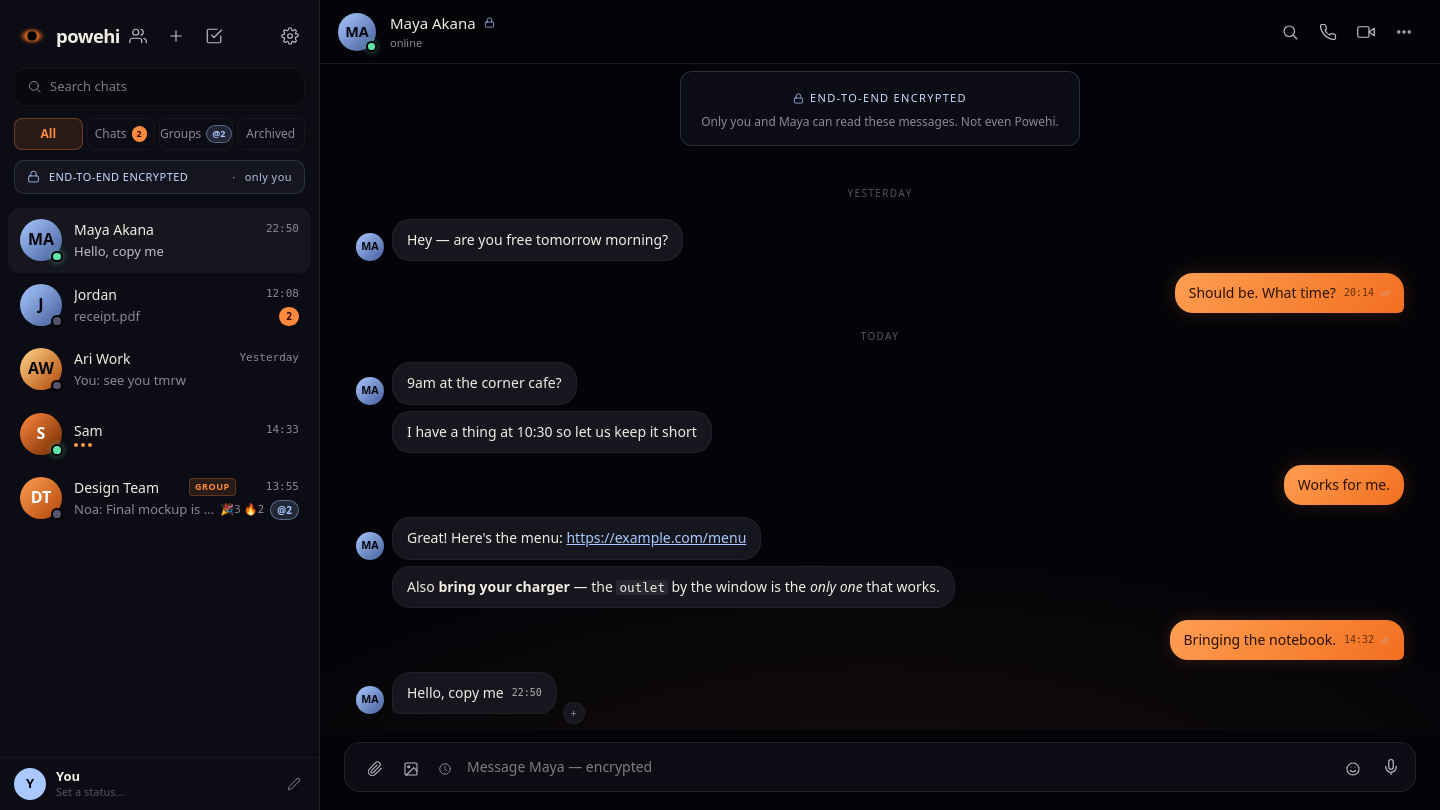
Test: ChatLayout — copy message to clipboard › copy button appears on hover for an incoming text message
The width and height of the screenshot is (1440, 810).
(page scrolled)
Hover over the element with test id "message-bubble" showing "MA Hello, copy me 22:50 +" at (470, 698), box [356,672,585,724]
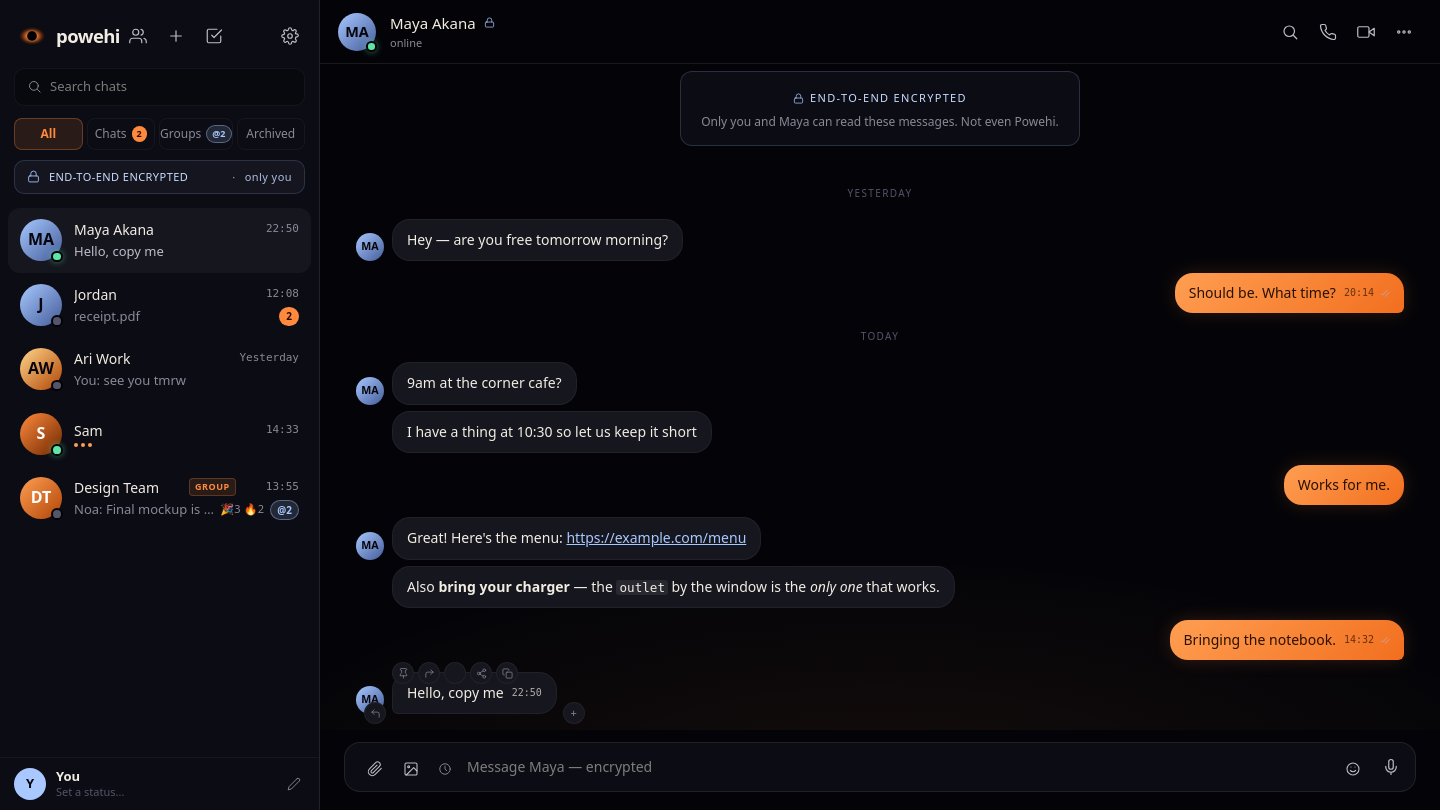
Expected: the button with test id "copy-button" is shown, [496,662,518,684]
